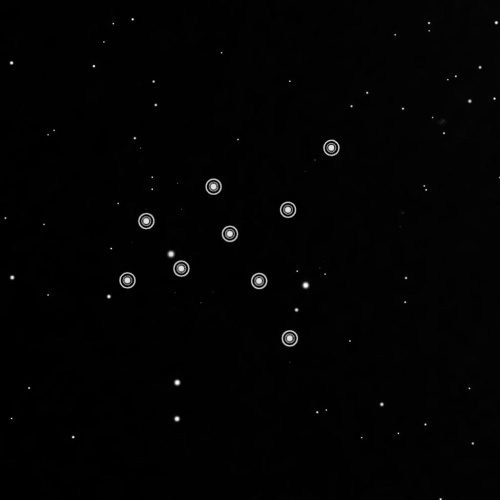cygnus: (116, 134, 345, 350)
